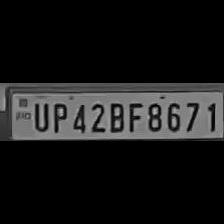1: (201, 100, 219, 132)
2: (87, 99, 105, 133)
4: (68, 100, 88, 134)
6: (163, 100, 181, 132)
7: (182, 100, 200, 132)
8: (144, 100, 162, 132)
B: (107, 100, 125, 132)
F: (126, 100, 144, 132)
P: (48, 100, 68, 132)
U: (31, 100, 50, 132)
